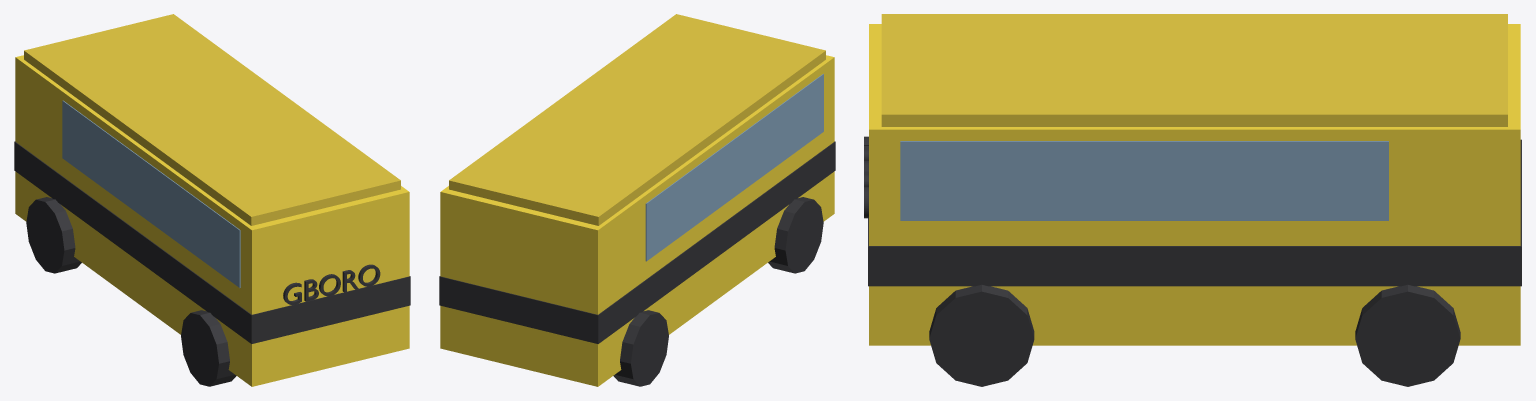
File: VH_GboroBus.glb
The picture shows the model from 3 angles, left to right: view 1: azimuth 30°, elevation 25°; view 2: azimuth 150°, elevation 25°; view 3: azimuth 270°, elevation 25°; orthographic projection. The views are drawn at different scales.
Visible parts, largest first — view 1: VH_GboroBus; view 2: VH_GboroBus; view 3: VH_GboroBus.
Boxes of the visible parts, x1,y1,x2,y2 form: VH_GboroBus: (14, 14, 410, 386); VH_GboroBus: (439, 14, 835, 386); VH_GboroBus: (864, 14, 1521, 386).
Bounding box in the file's own units: 2.28 × 2.31 × 5.25.
